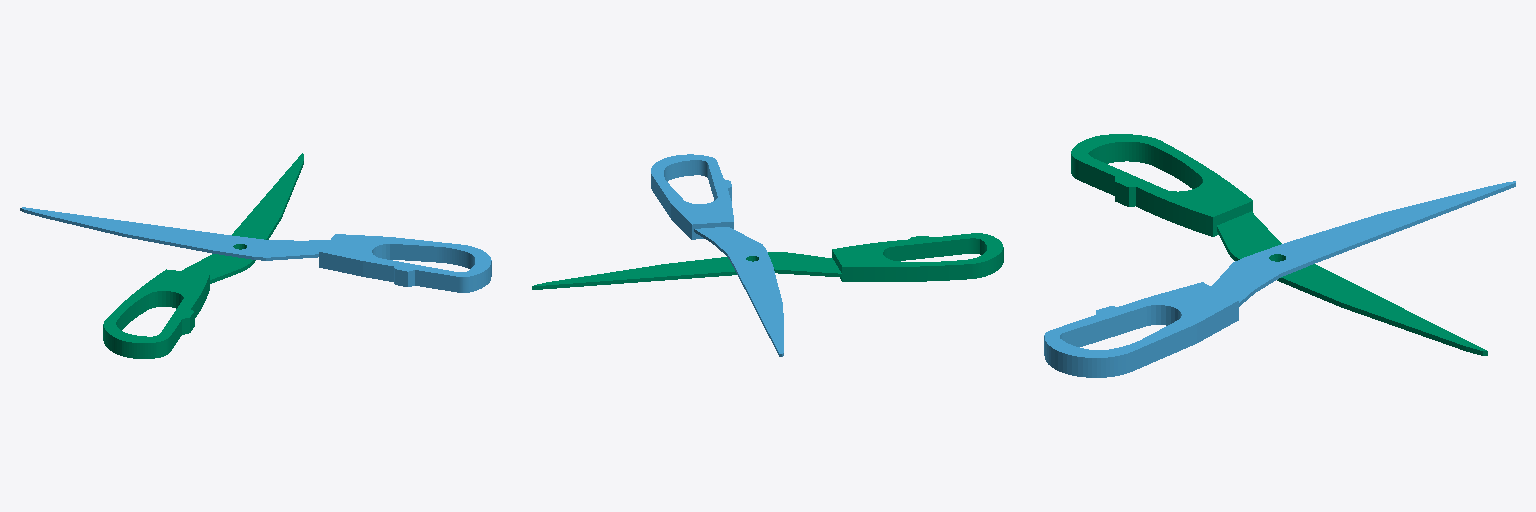
URDF robot description (partnet_2c9bd3bae55a5f9f5dd617a3a324cd25):
<?xml version="1.0" ?>
<robot name="partnet_2c9bd3bae55a5f9f5dd617a3a324cd25">
	<link name="base"/>
	<link name="link_0">
		<visual name="blade-4">
			<origin xyz="0.17809732471659095 0 0.011503931473029866"/>
			<geometry>
				<mesh filename="textured_objs/new-9.obj"/>
			</geometry>
		</visual>
		<visual name="handle-5">
			<origin xyz="0.17809732471659095 0 0.011503931473029866"/>
			<geometry>
				<mesh filename="textured_objs/new-5.obj"/>
			</geometry>
		</visual>
		<visual name="handle-5">
			<origin xyz="0.17809732471659095 0 0.011503931473029866"/>
			<geometry>
				<mesh filename="textured_objs/new-8.obj"/>
			</geometry>
		</visual>
		<collision>
			<origin xyz="0.17809732471659095 0 0.011503931473029866"/>
			<geometry>
				<mesh filename="textured_objs/new-9.obj"/>
			</geometry>
		</collision>
		<collision>
			<origin xyz="0.17809732471659095 0 0.011503931473029866"/>
			<geometry>
				<mesh filename="textured_objs/new-5.obj"/>
			</geometry>
		</collision>
		<collision>
			<origin xyz="0.17809732471659095 0 0.011503931473029866"/>
			<geometry>
				<mesh filename="textured_objs/new-8.obj"/>
			</geometry>
		</collision>
	</link>
	<joint name="joint_0" type="revolute">
		<origin xyz="-0.17809732471659095 0 -0.011503931473029866"/>
		<axis xyz="0 1 0"/>
		<child link="link_0"/>
		<parent link="link_1"/>
		<limit lower="-1.4388494353441252" upper="0.0"/>
	</joint>
	<link name="link_1">
		<visual name="screw-3">
			<origin xyz="0 0 0"/>
			<geometry>
				<mesh filename="textured_objs/new-1.obj"/>
			</geometry>
		</visual>
		<visual name="screw-3">
			<origin xyz="0 0 0"/>
			<geometry>
				<mesh filename="textured_objs/new-0.obj"/>
			</geometry>
		</visual>
		<visual name="blade-6">
			<origin xyz="0 0 0"/>
			<geometry>
				<mesh filename="textured_objs/new-11.obj"/>
			</geometry>
		</visual>
		<visual name="handle-7">
			<origin xyz="0 0 0"/>
			<geometry>
				<mesh filename="textured_objs/new-7.obj"/>
			</geometry>
		</visual>
		<visual name="handle-7">
			<origin xyz="0 0 0"/>
			<geometry>
				<mesh filename="textured_objs/new-10.obj"/>
			</geometry>
		</visual>
		<collision>
			<origin xyz="0 0 0"/>
			<geometry>
				<mesh filename="textured_objs/new-1.obj"/>
			</geometry>
		</collision>
		<collision>
			<origin xyz="0 0 0"/>
			<geometry>
				<mesh filename="textured_objs/new-0.obj"/>
			</geometry>
		</collision>
		<collision>
			<origin xyz="0 0 0"/>
			<geometry>
				<mesh filename="textured_objs/new-11.obj"/>
			</geometry>
		</collision>
		<collision>
			<origin xyz="0 0 0"/>
			<geometry>
				<mesh filename="textured_objs/new-7.obj"/>
			</geometry>
		</collision>
		<collision>
			<origin xyz="0 0 0"/>
			<geometry>
				<mesh filename="textured_objs/new-10.obj"/>
			</geometry>
		</collision>
	</link>
	<joint name="joint_1" type="fixed">
		<origin rpy="1.570796326794897 0 -1.570796326794897" xyz="0 0 0"/>
		<child link="link_1"/>
		<parent link="base"/>
	</joint>
</robot>

--- What the picture shows (computed from the rendered views, not written in the file) ---
Views: 3 orthographic renders of the robot side by side, from view 1: azimuth 30°, elevation 25°; view 2: azimuth 150°, elevation 25°; view 3: azimuth 270°, elevation 25°.
Robot: partnet_2c9bd3bae55a5f9f5dd617a3a324cd25 — 3 links, 2 joints (1 revolute, 1 fixed); root link base; default pose: every joint at zero.
Links seen in each view (by area): view 1: link_0, link_1; view 2: link_1, link_0; view 3: link_0, link_1.
Link boxes in pixels (left/top/right/bottom): link_0: left=20, top=207, right=491, bottom=292; link_1: left=103, top=153, right=303, bottom=358; link_1: left=532, top=233, right=1003, bottom=289; link_0: left=651, top=154, right=783, bottom=356; link_0: left=1044, top=181, right=1515, bottom=377; link_1: left=1071, top=134, right=1487, bottom=355.
Bounding box of the posed robot: 1.57 × 1.4 × 0.0683 m (x, y, z).
Meshes: 8 distinct files referenced, 8 mesh visuals loaded (8 OBJ).